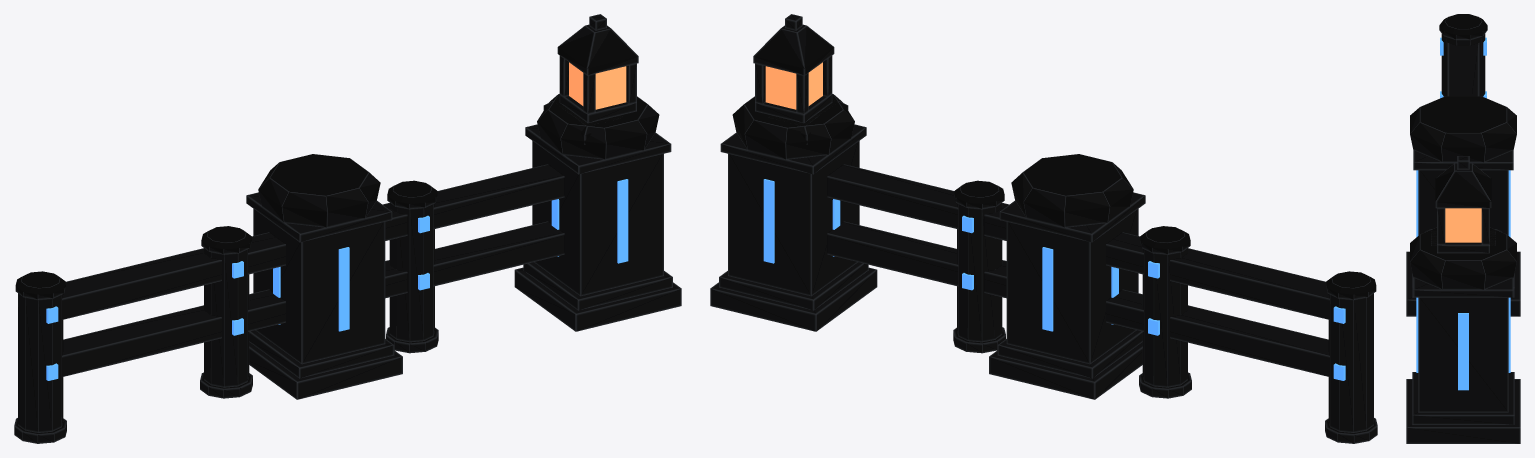
Rendered from railings.glb.
3 views of the same model, side by side, from view 1: azimuth 30°, elevation 25°; view 2: azimuth 150°, elevation 25°; view 3: azimuth 270°, elevation 25° (orthographic). The views are drawn at different scales.
Parts seen in each view (by area): view 1: Rail_Middle, Rail_Lamp, Post_Corner; view 2: Rail_Middle, Rail_Lamp, Post_Corner; view 3: Rail_Lamp, Post_Corner, Rail_Middle, Rail_End.
Boxes of the visible parts, x1=… form: Rail_Middle: x1=14, y1=164, x2=564, y2=443; Rail_Lamp: x1=514, y1=14, x2=681, y2=331; Post_Corner: x1=246, y1=154, x2=402, y2=399; Rail_Middle: x1=827, y1=164, x2=1377, y2=443; Rail_Lamp: x1=710, y1=14, x2=877, y2=331; Post_Corner: x1=989, y1=154, x2=1145, y2=399; Rail_Lamp: x1=1406, y1=156, x2=1520, y2=443; Post_Corner: x1=1406, y1=96, x2=1520, y2=316; Rail_Middle: x1=1439, y1=14, x2=1487, y2=98; Rail_End: x1=1425, y1=229, x2=1501, y2=245.
Bounding box in the file's own units: 1.13 × 0.478 × 0.19.
3 materials, 1 textured.
